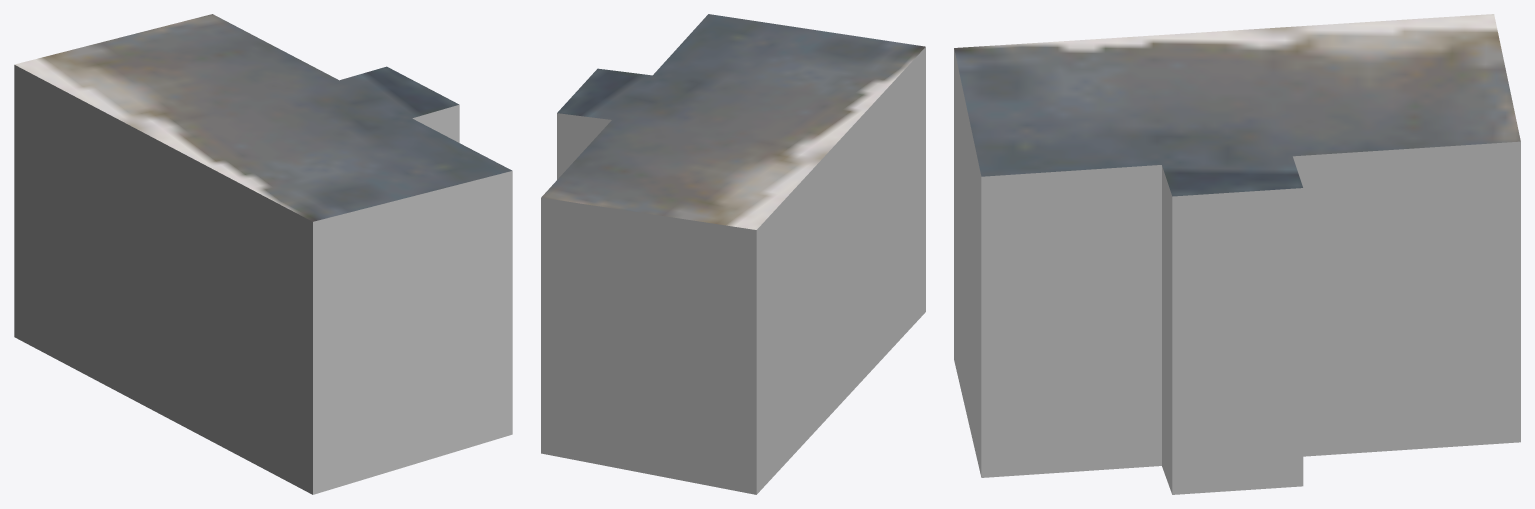
File: DEBW_0010007Tx8C.gltf
3 renders of one model, left to right at view 1: azimuth 30°, elevation 25°; view 2: azimuth 150°, elevation 25°; view 3: azimuth 270°, elevation 25°, orthographic. The views are drawn at different scales.
Visible parts, largest first — view 1: Z_UP; view 2: Z_UP; view 3: Z_UP.
Boxes of the visible parts, <box> form: Z_UP: <box>14,14,512,494</box>; Z_UP: <box>541,14,925,494</box>; Z_UP: <box>954,14,1520,494</box>.
Size of the model in its own units: 6.9 by 5.91 by 9.74.
2 materials, 1 textured.
